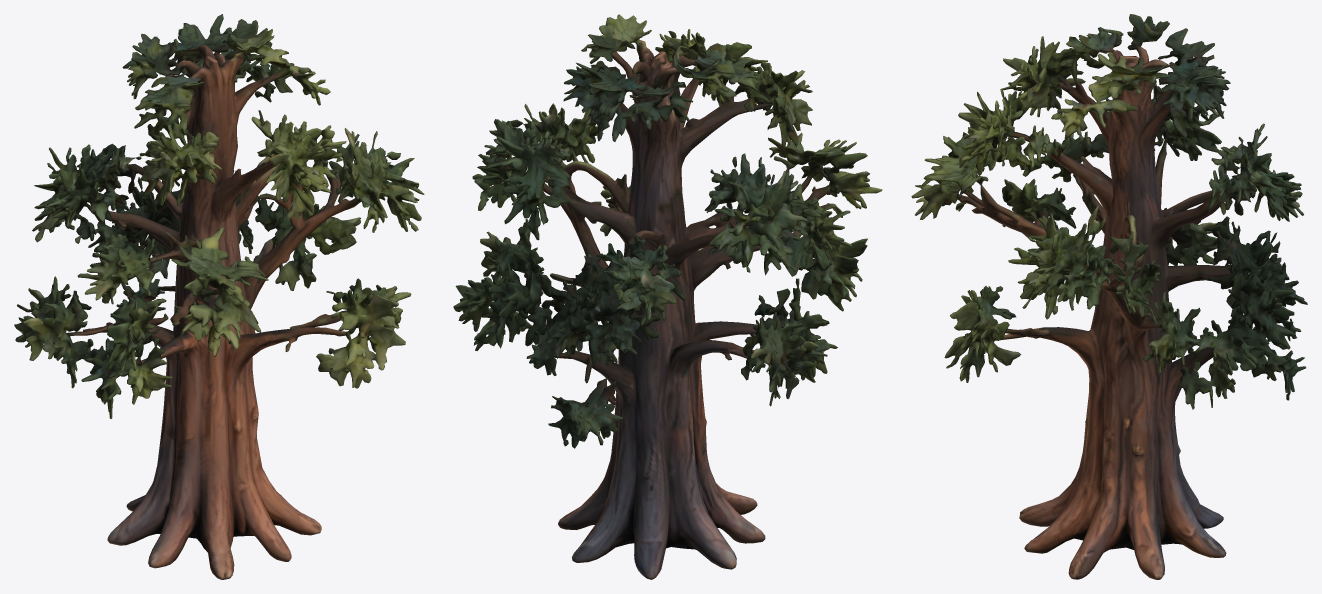
File: nature-sequoia.glb
The picture shows the model from 3 angles, left to right: view 1: azimuth 30°, elevation 25°; view 2: azimuth 150°, elevation 25°; view 3: azimuth 270°, elevation 25°; orthographic projection.
Visible parts, largest first — view 1: tripo_node_09678577-cf9c-43f0-a287-ed31f01a4250; view 2: tripo_node_09678577-cf9c-43f0-a287-ed31f01a4250; view 3: tripo_node_09678577-cf9c-43f0-a287-ed31f01a4250.
Part boxes in pixels (x1,y1,x2,y2): tripo_node_09678577-cf9c-43f0-a287-ed31f01a4250: (14,14,424,579); tripo_node_09678577-cf9c-43f0-a287-ed31f01a4250: (453,14,882,579); tripo_node_09678577-cf9c-43f0-a287-ed31f01a4250: (911,14,1307,579).
Bounding box in the file's own units: 14.93 × 20 × 14.25.
Materials: 1 (1 with a texture image).
